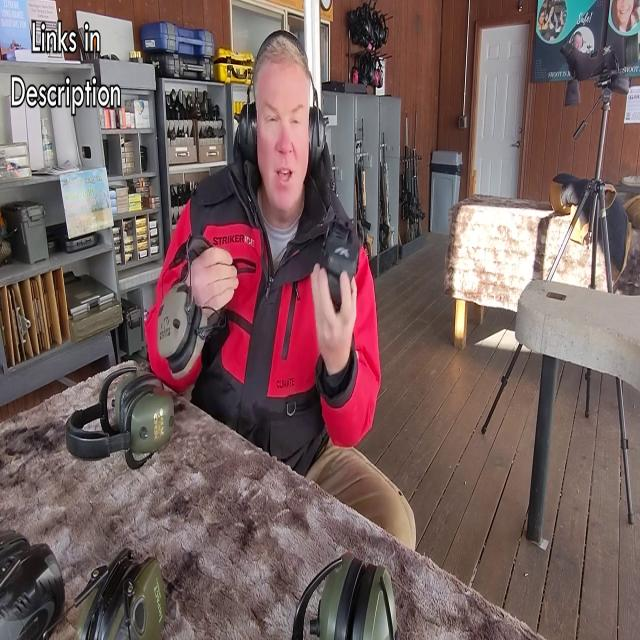earmuff: (154, 272, 194, 364), (305, 94, 335, 166), (231, 98, 259, 170)
